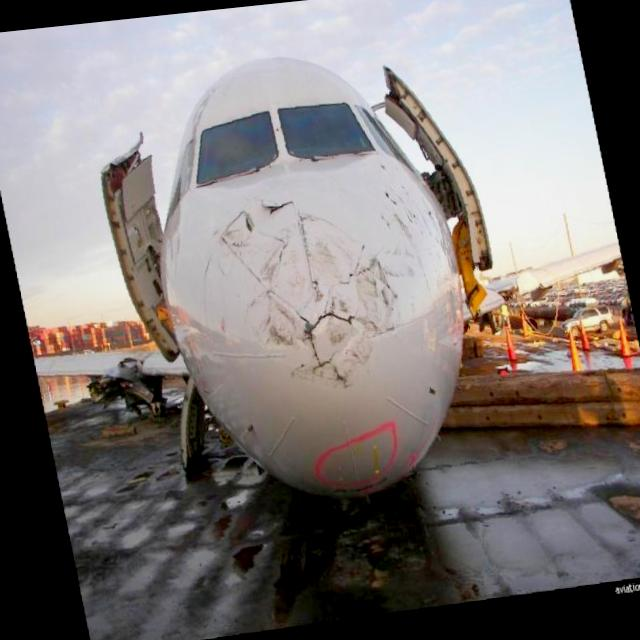crack: (202, 186, 410, 408)
